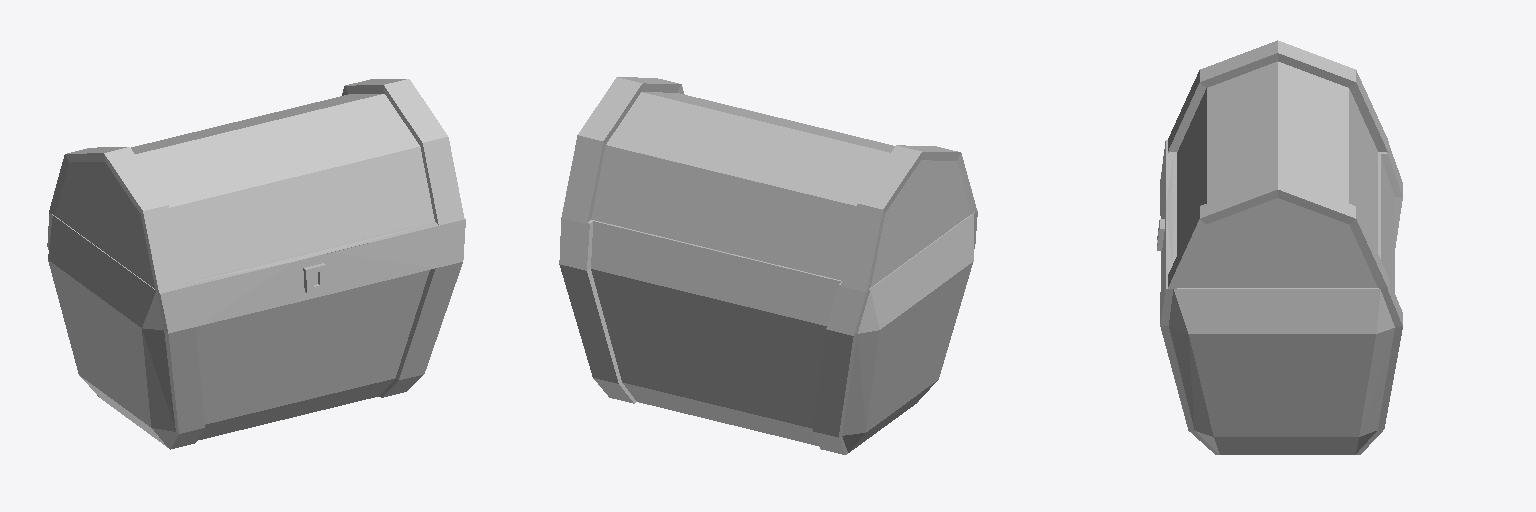
File: chest.obj
The picture shows the model from 3 angles: view 1: azimuth 30°, elevation 25°; view 2: azimuth 150°, elevation 25°; view 3: azimuth 270°, elevation 25°; orthographic projection.
Parts seen in each view (by area): view 1: ChestTop; view 2: ChestTop; view 3: ChestTop.
Part boxes in pixels (x1,y1,x2,y2): ChestTop: (47,79,465,449); ChestTop: (559,77,977,454); ChestTop: (1157,40,1402,454).
Bounding box in the file's own units: 1.12 × 0.9443 × 0.7475.